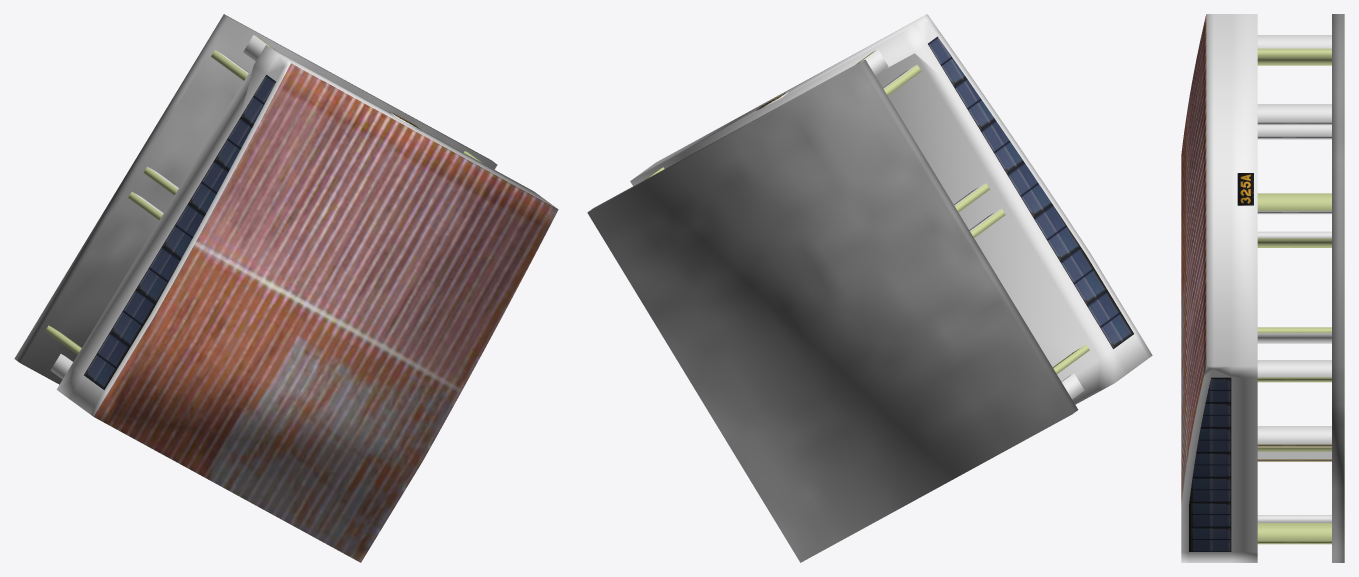
The model's file is amk_blk325a_building.obj.
3 renders of one model, left to right at view 1: azimuth 30°, elevation 25°; view 2: azimuth 150°, elevation 25°; view 3: azimuth 270°, elevation 25°, orthographic. The views are drawn at different scales.
Visible parts, largest first — view 1: polygon.795; view 2: polygon.795; view 3: polygon.795.
Boxes of the visible parts, bbox=[...] form: polygon.795: bbox=[14, 14, 558, 562]; polygon.795: bbox=[587, 14, 1152, 562]; polygon.795: bbox=[1181, 14, 1344, 562].
Bounding box in the file's own units: 22.54 × 22.8 × 6.48.
Materials: 1 (1 with a texture image).
